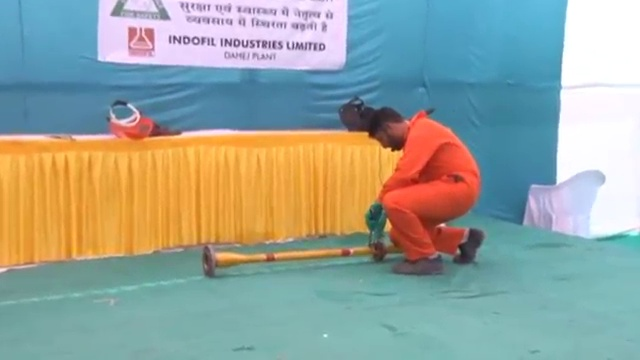helmet_off: (371, 106, 409, 154)
person: (364, 102, 488, 278)
